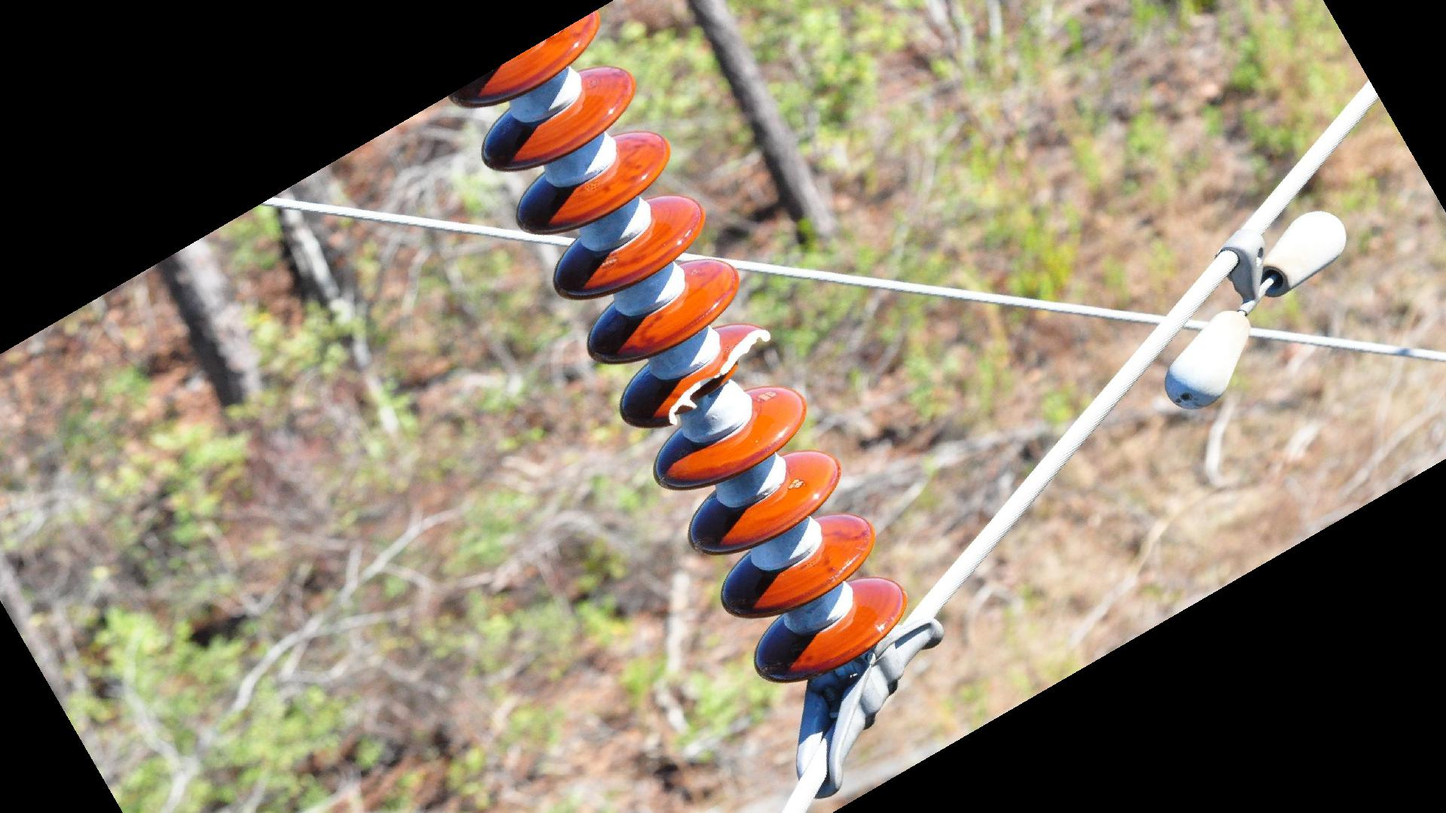insulator: (444, 5, 912, 687)
insulator_breakage: (662, 321, 775, 430)
